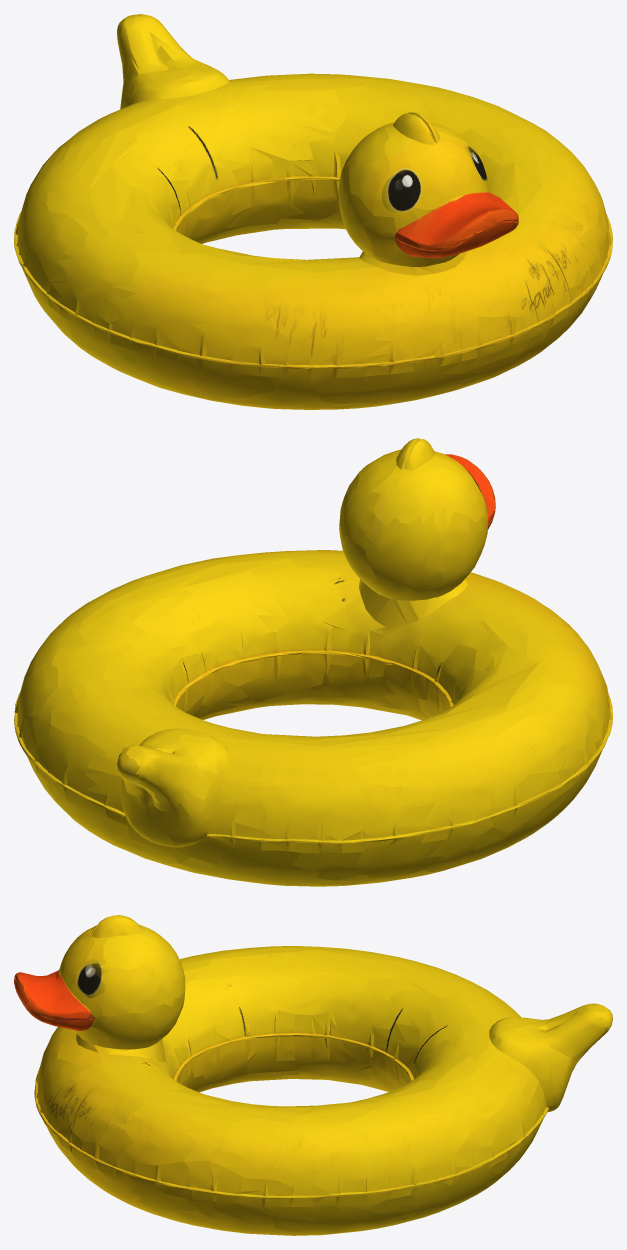
The model's file is salvagente_giocattolo.glb.
3 views of the same model, one above another, from view 1: azimuth 30°, elevation 25°; view 2: azimuth 150°, elevation 25°; view 3: azimuth 270°, elevation 25° (orthographic). The views are drawn at different scales.
Bounding box in the file's own units: 1.64 × 0.8243 × 1.9.
Materials: 1 (1 with a texture image).
